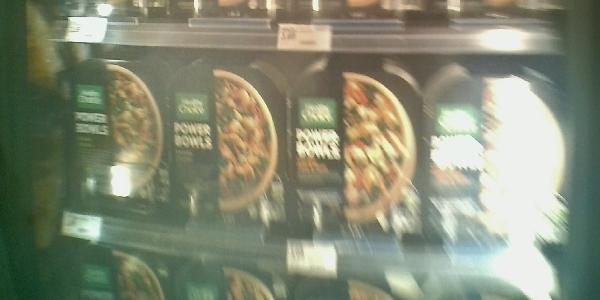pizza: (425, 70, 567, 251), (295, 74, 422, 249), (52, 56, 175, 218), (177, 63, 291, 223)
